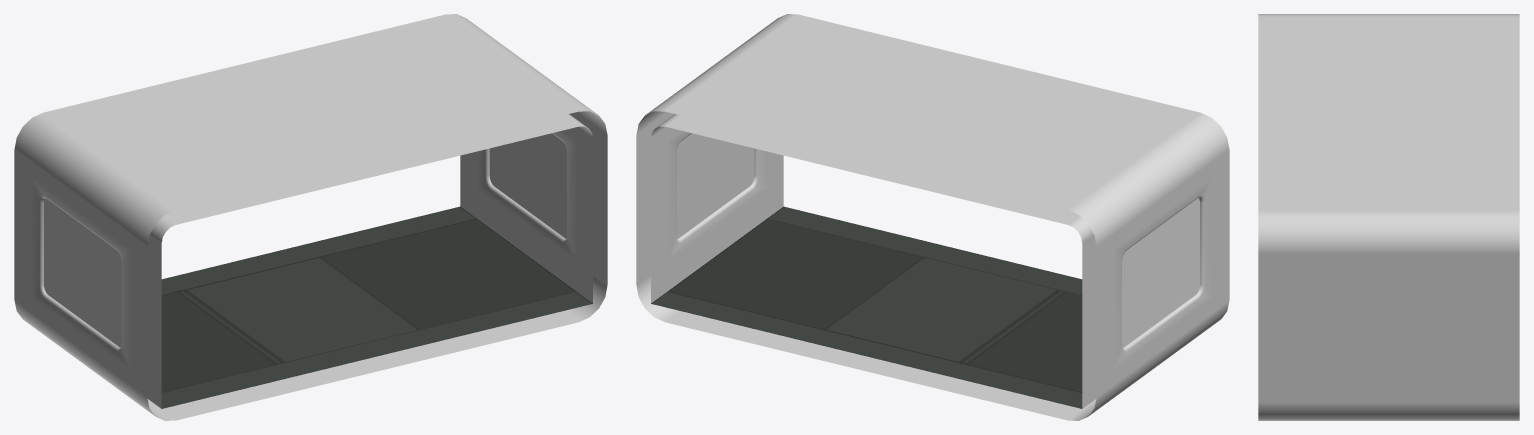
The model's file is SSCRoom1.fbx.
The picture shows the model from 3 angles, left to right: view 1: azimuth 30°, elevation 25°; view 2: azimuth 150°, elevation 25°; view 3: azimuth 270°, elevation 25°; orthographic projection.
Parts seen in each view (by area): view 1: SSCRoom1, SSCRoom1Floor; view 2: SSCRoom1, SSCRoom1Floor; view 3: SSCRoom1.
Boxes of the visible parts, x1,y1,x2,y2 form: SSCRoom1: (14,14,607,420); SSCRoom1Floor: (161,206,592,408); SSCRoom1: (636,14,1229,420); SSCRoom1Floor: (651,206,1082,408); SSCRoom1: (1258,14,1519,420).
Bounding box in the file's own units: 800 × 350 × 400.
